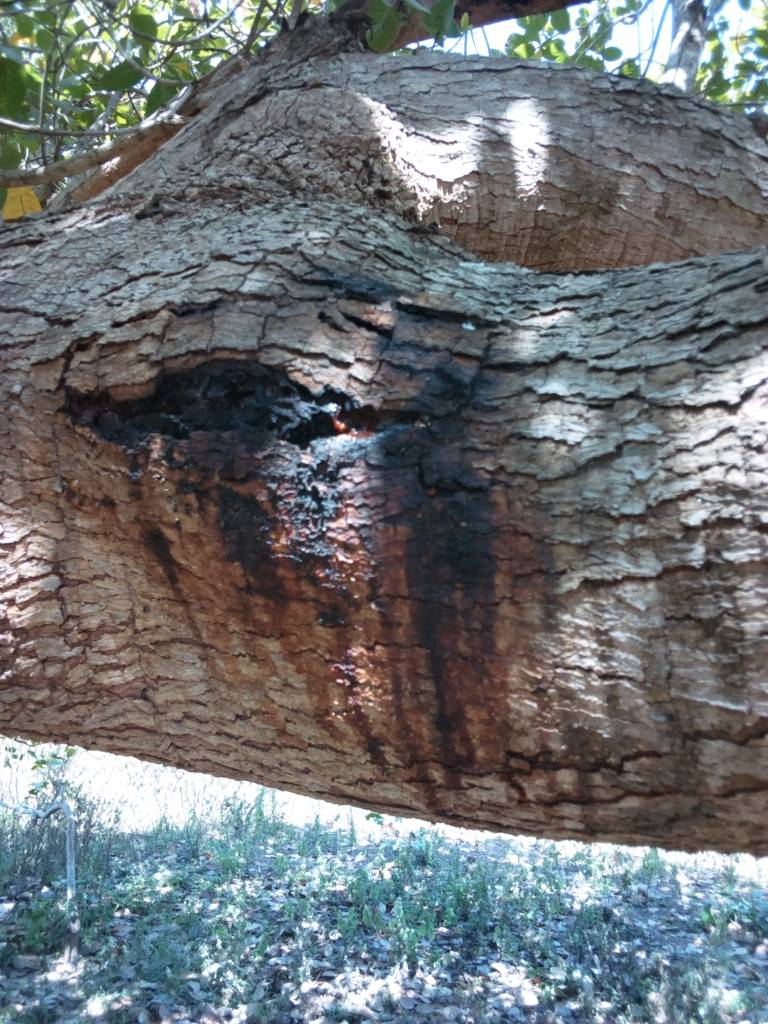Gommose: (65, 321, 515, 622)
